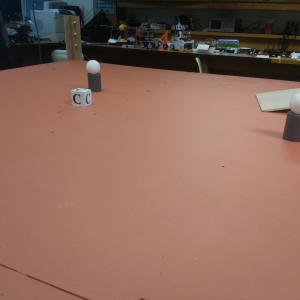blockC: (73, 87, 91, 107)
corner: (64, 13, 82, 60)
obstacle: (284, 93, 300, 140), (86, 59, 101, 95)
